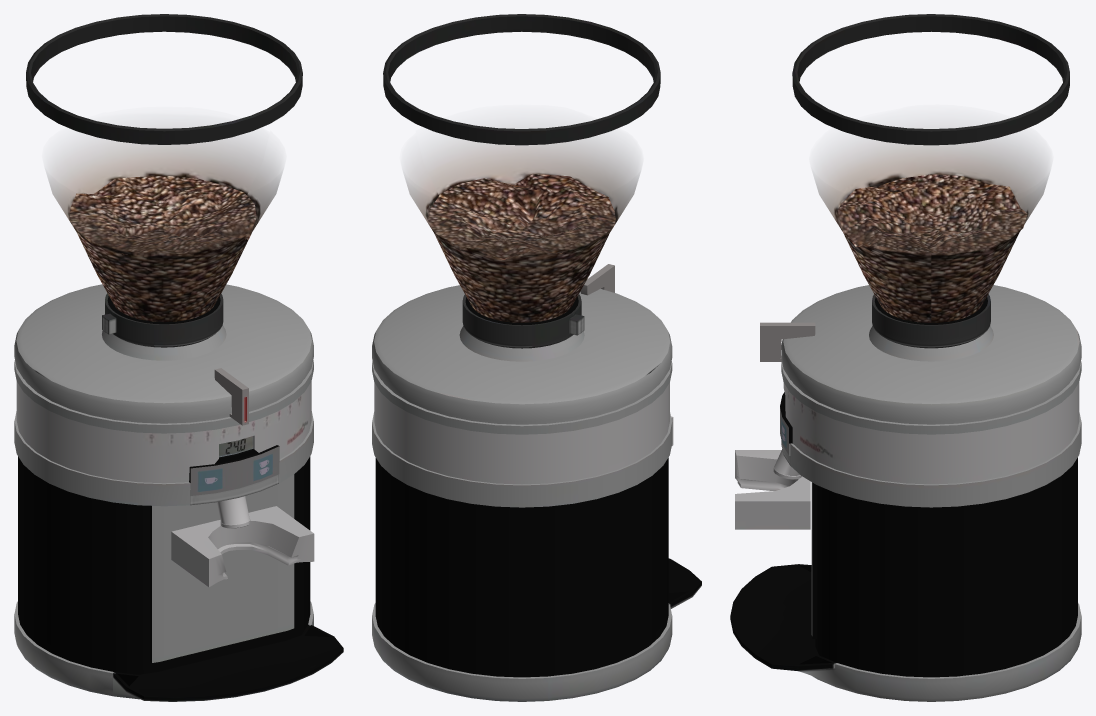
The model's file is grinder.glb.
3 views of the same model, side by side, from view 1: azimuth 30°, elevation 25°; view 2: azimuth 150°, elevation 25°; view 3: azimuth 270°, elevation 25° (orthographic).
Parts seen in each view (by area): view 1: Grinder; view 2: Grinder; view 3: Grinder.
Boxes of the visible parts, x1,y1,x2,y2 form: Grinder: [14, 14, 343, 701]; Grinder: [372, 14, 701, 701]; Grinder: [730, 14, 1081, 701].
Bounding box in the file's own units: 1.81 × 3.78 × 2.11.
Materials: 1 (1 with a texture image).
